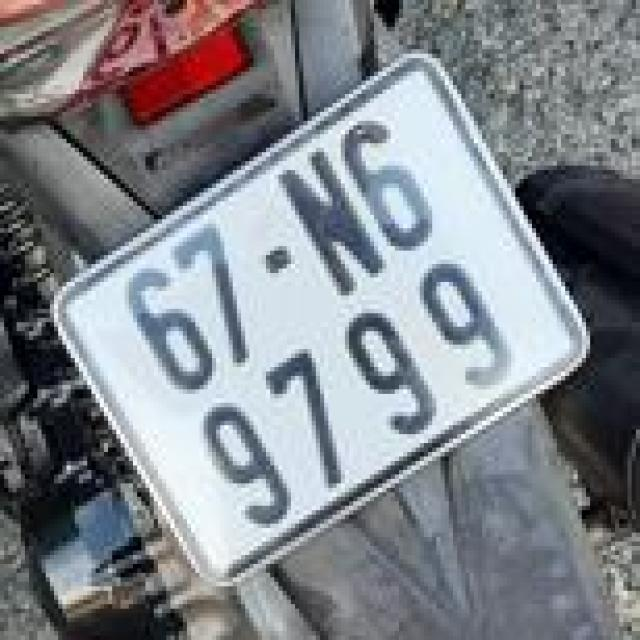6: (324, 104, 450, 270), (105, 246, 232, 410)
7: (250, 336, 373, 511), (158, 211, 276, 382)
9: (397, 241, 535, 410), (321, 297, 457, 457), (189, 388, 312, 548)
N: (259, 140, 404, 315)
